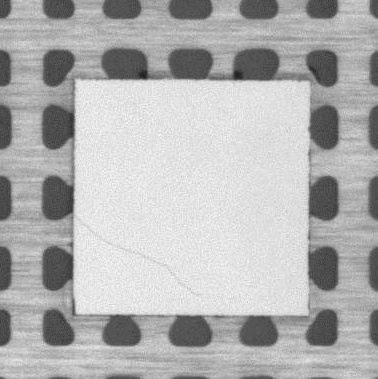DIE_CRACK: (75, 214, 204, 297)
